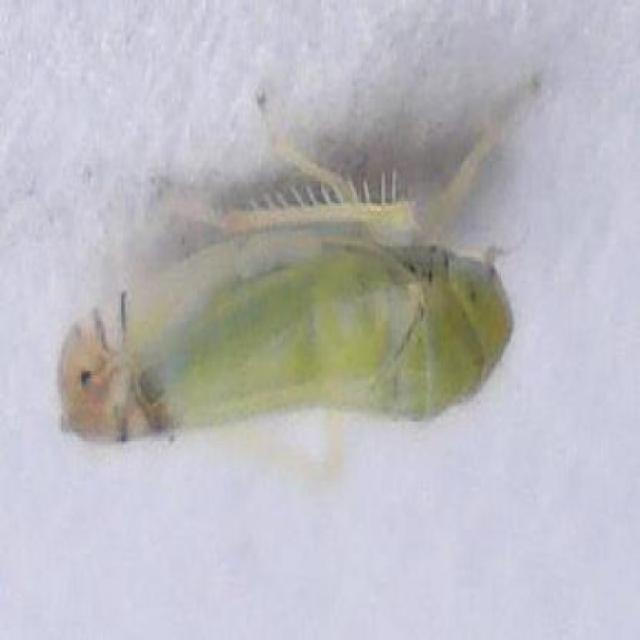green-leafhopper: (49, 222, 506, 430)
